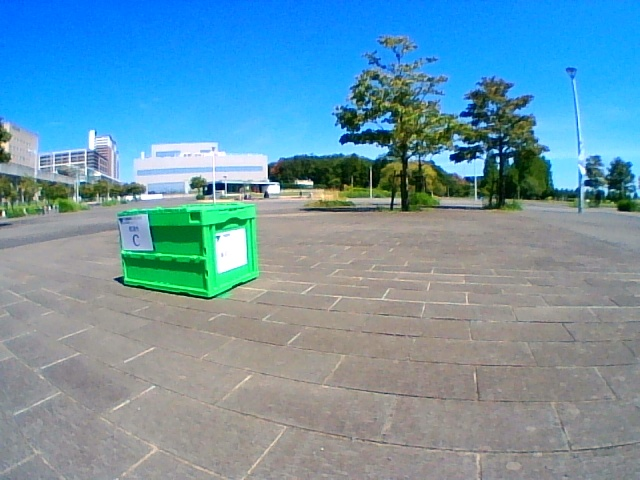green_box: (116, 203, 259, 298)
tag_c: (125, 217, 147, 250)
